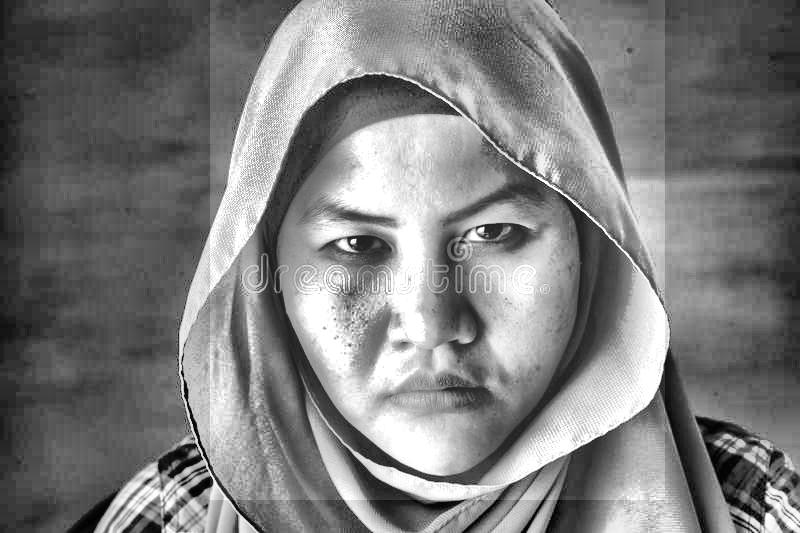angry: (210, 0, 665, 500)
